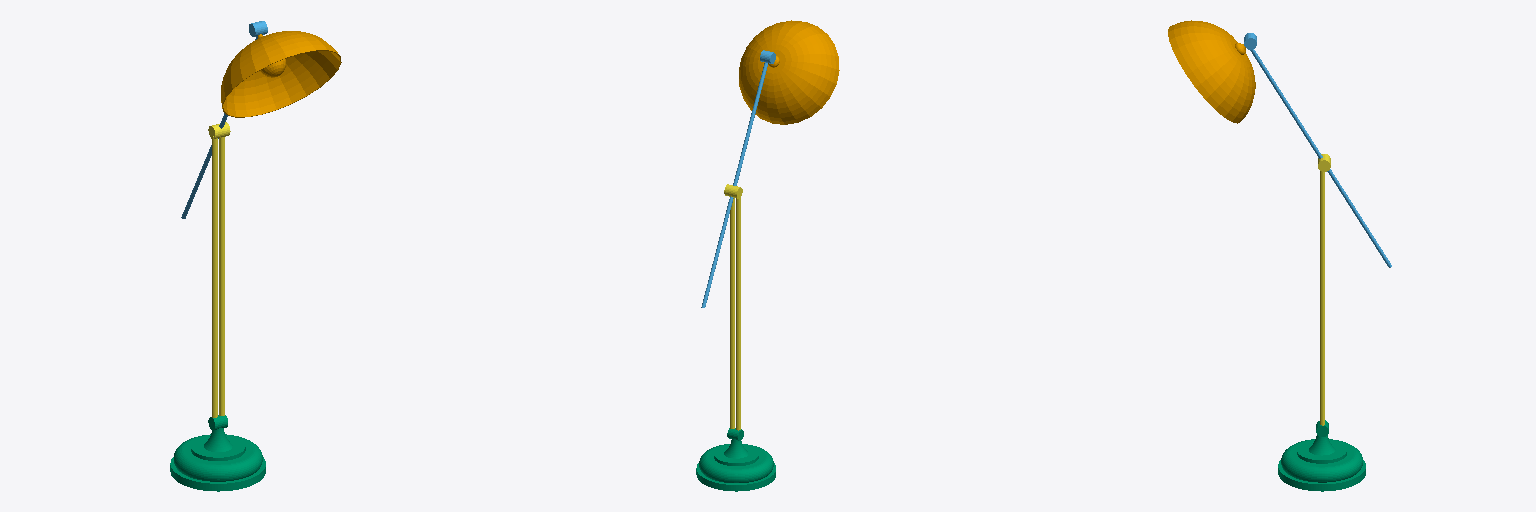
robot.urdf — 14306:
<?xml version="1.0" ?>
<robot name="14306" version="1.0">
  <link name="link_0">
    <visual name="link_0___1">
      <origin rpy="0.0 0.0 0.0" xyz="0.0 0.085085 -0.7200725"/>
      <geometry>
        <mesh filename="shape/visual/link_0_m1_vm.obj"/>
      </geometry>
    </visual>
    <collision>
      <origin rpy="0.0 0.0 0.0" xyz="0.0 0.085085 -0.7200725"/>
      <geometry>
        <mesh filename="shape/collision/link_0_cm.obj"/>
      </geometry>
    </collision>
  </link>
  <link name="link_1">
    <visual name="link_1___1">
      <origin rpy="0.0 0.0 0.0" xyz="0.0 -0.17345807208377167 -0.2511903606418177"/>
      <geometry>
        <mesh filename="shape/visual/link_1_m1_vm.obj"/>
      </geometry>
    </visual>
    <collision>
      <origin rpy="0.0 0.0 0.0" xyz="0.0 -0.17345807208377167 -0.2511903606418177"/>
      <geometry>
        <mesh filename="shape/collision/link_1_cm.obj"/>
      </geometry>
    </collision>
  </link>
  <link name="base_link">
    <visual name="link_2___1">
      <origin rpy="0.0 0.0 0.0" xyz="0.0 -0.0 0.0"/>
      <geometry>
        <mesh filename="shape/visual/link_2_m1_vm.obj"/>
      </geometry>
    </visual>
    <collision>
      <origin rpy="0.0 0.0 0.0" xyz="0.0 -0.0 0.0"/>
      <geometry>
        <mesh filename="shape/collision/link_2_cm.obj"/>
      </geometry>
    </collision>
  </link>
  <link name="link_3">
    <visual name="link_3___1">
      <origin rpy="0.0 0.0 0.0" xyz="0.0 -0.1681440343960162 0.7823757736008108"/>
      <geometry>
        <mesh filename="shape/visual/link_3_m1_vm.obj"/>
      </geometry>
    </visual>
    <collision>
      <origin rpy="0.0 0.0 0.0" xyz="0.0 -0.1681440343960162 0.7823757736008108"/>
      <geometry>
        <mesh filename="shape/collision/link_3_cm.obj"/>
      </geometry>
    </collision>
  </link>
  <joint name="joint_0" type="revolute">
    <origin rpy="0.0 0.0 0.0" xyz="0.0 -0.2585430720837717 0.4688821393581823"/>
    <axis xyz="-1.0 -0.0 0.0"/>
    <parent link="link_1"/>
    <child link="link_0"/>
    <limit lower="0.0" upper="3.490658503988659"/>
  </joint>
  <joint name="joint_1" type="revolute">
    <origin rpy="0.0 0.0 0.0" xyz="0.0 0.005314037687755485 1.0335661342426286"/>
    <axis xyz="-1.0 -0.0 0.0"/>
    <parent link="link_3"/>
    <child link="link_1"/>
    <limit lower="-2.5307274153917776" upper="3.5779249665883754"/>
  </joint>
  <joint name="joint_3" type="revolute">
    <origin rpy="0.0 0.0 0.0" xyz="0.0 0.1681440343960162 -0.7823757736008108"/>
    <axis xyz="1.0 -0.0 0.0"/>
    <parent link="base_link"/>
    <child link="link_3"/>
    <limit lower="-1.3089969389957472" upper="1.3089969389957472"/>
  </joint>
</robot>

--- Render facts (derived) ---
3 views of the same robot in one strip: view 1: azimuth 30°, elevation 25°; view 2: azimuth 150°, elevation 25°; view 3: azimuth 270°, elevation 25° (orthographic).
Robot: 14306 — 4 links, 3 joints (3 revolute); root link base_link; default pose: every joint at zero.
Visible links, largest first — view 1: link_0, base_link, link_3, link_1; view 2: link_0, base_link, link_3, link_1; view 3: link_0, base_link, link_3, link_1.
Boxes of the visible links, x1,y1,x2,y2 form: link_0: [221, 31, 341, 117]; base_link: [170, 415, 265, 491]; link_3: [208, 122, 230, 417]; link_1: [181, 21, 267, 218]; link_0: [739, 20, 839, 124]; base_link: [696, 428, 775, 491]; link_3: [724, 184, 742, 430]; link_1: [701, 50, 775, 307]; link_0: [1168, 20, 1255, 123]; base_link: [1278, 420, 1365, 491]; link_3: [1318, 154, 1330, 425]; link_1: [1244, 33, 1391, 267].
Bounding box of the posed robot: 0.4196 × 0.7889 × 1.73 m (x, y, z).
4 mesh visuals loaded from 4 distinct referenced files (4 OBJ).